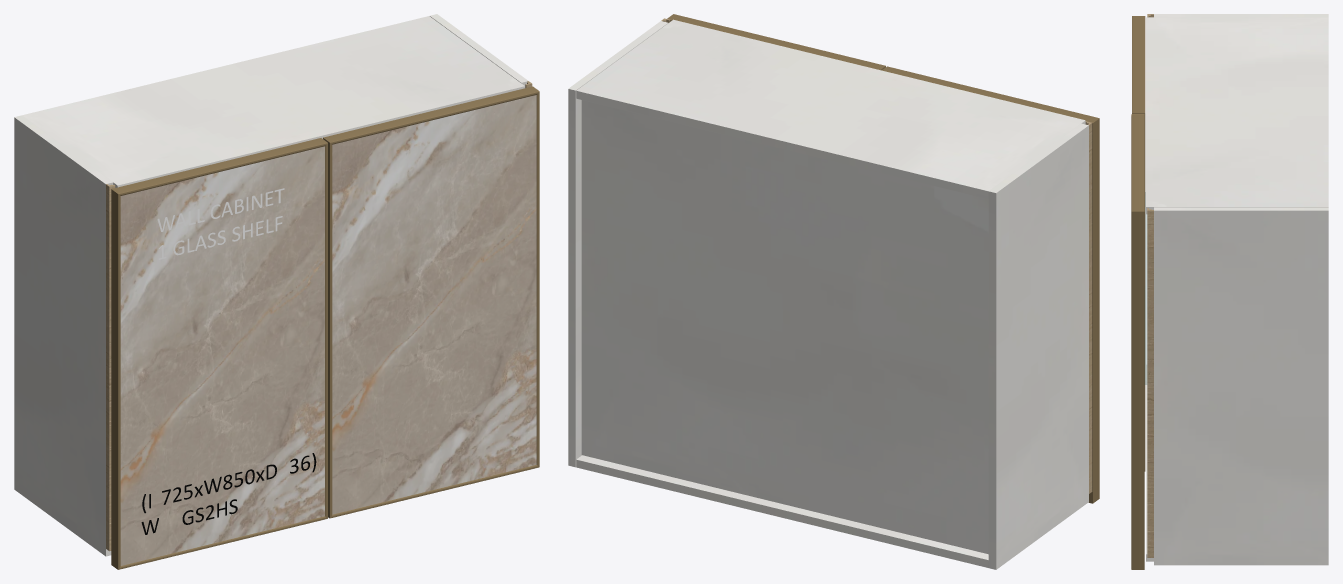
Rendered from WC-SH-NHX-ST-1SG-2HS-XXX-850-725-336-15.glb.
The picture shows the model from 3 angles, left to right: view 1: azimuth 30°, elevation 25°; view 2: azimuth 150°, elevation 25°; view 3: azimuth 270°, elevation 25°; orthographic projection. The views are drawn at different scales.
Parts seen in each view (by area): view 1: Object_node_6, Object_node_4, TP, TP_node_0, Extrusion_node_1, Object_node_8, Extrusion_node_2, Extrusion, Extrusion_node_5, 2D text, Extrusion_node_3, Extrusion_node (+4 smaller); view 2: TP_node_2, TP, TP_node_0, TP_node_1, TP_node, Extrusion_node_1, Object_node_8, Extrusion_node_2, Extrusion; view 3: TP_node_1, TP, Extrusion_node_3, Object_node_16, Extrusion_node_2, Extrusion, Extrusion_node, TP_node_0, TP_node, Object_node_1.
Boxes of the visible parts, x1,y1,x2,y2 form: Object_node_6: (332, 95, 536, 514); Object_node_4: (120, 146, 324, 565); TP: (22, 16, 524, 187); TP_node_0: (14, 115, 113, 556); Extrusion_node_1: (111, 189, 120, 569); Object_node_8: (106, 184, 115, 551); Extrusion_node_2: (323, 86, 539, 144); Extrusion: (111, 138, 327, 195); Extrusion_node_5: (323, 138, 332, 518); 2D text: (157, 188, 284, 259); Extrusion_node_3: (536, 92, 539, 466); Extrusion_node: (325, 143, 327, 518); TP_node_2: (581, 100, 988, 554); TP: (576, 19, 1085, 198); TP_node_0: (988, 123, 1088, 569); TP_node_1: (568, 21, 667, 467); TP_node: (576, 455, 988, 567); Extrusion_node_1: (1089, 118, 1099, 503); Object_node_8: (1085, 121, 1092, 493); Extrusion_node_2: (667, 14, 885, 69); Extrusion: (882, 66, 1099, 123); TP_node_1: (1154, 207, 1328, 565); TP: (1146, 17, 1328, 214); Extrusion_node_3: (1131, 211, 1144, 569); Object_node_16: (1147, 208, 1153, 557); Extrusion_node_2: (1131, 114, 1144, 211); Extrusion: (1132, 16, 1145, 113); Extrusion_node: (1132, 113, 1145, 471); TP_node_0: (1154, 14, 1328, 17); TP_node: (1146, 364, 1153, 561); Object_node_1: (1145, 215, 1146, 384).
Size of what is drawn, in the model's own units: 0.85 by 0.725 by 0.366.
Materials: 7 (3 with a texture image).
